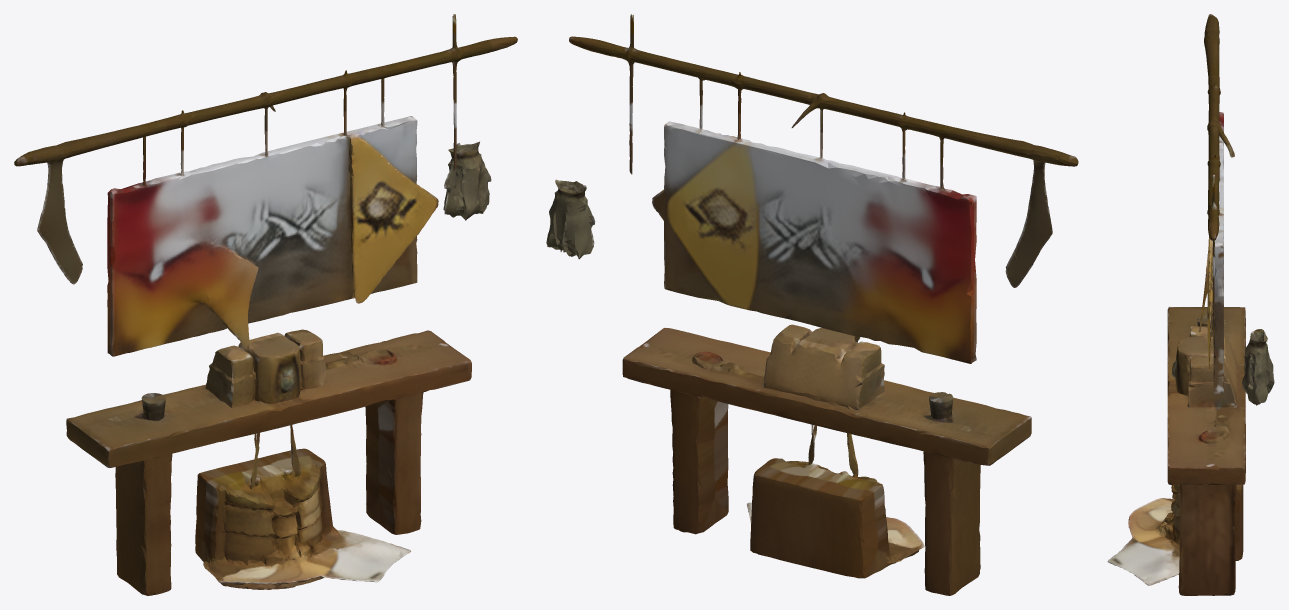
The picture shows the model from 3 angles, left to right: view 1: azimuth 30°, elevation 25°; view 2: azimuth 150°, elevation 25°; view 3: azimuth 270°, elevation 25°; orthographic projection. The views are drawn at different scales.
Visible parts, largest first — view 1: 040; view 2: 040; view 3: 040.
Part boxes in pixels (x1,y1,x2,y2): 040: (14,14,517,595); 040: (546,14,1078,595); 040: (1107,14,1274,595).
Bounding box in the file's own units: 1.9 × 1.77 × 0.601.
Materials: 1 (1 with a texture image).
